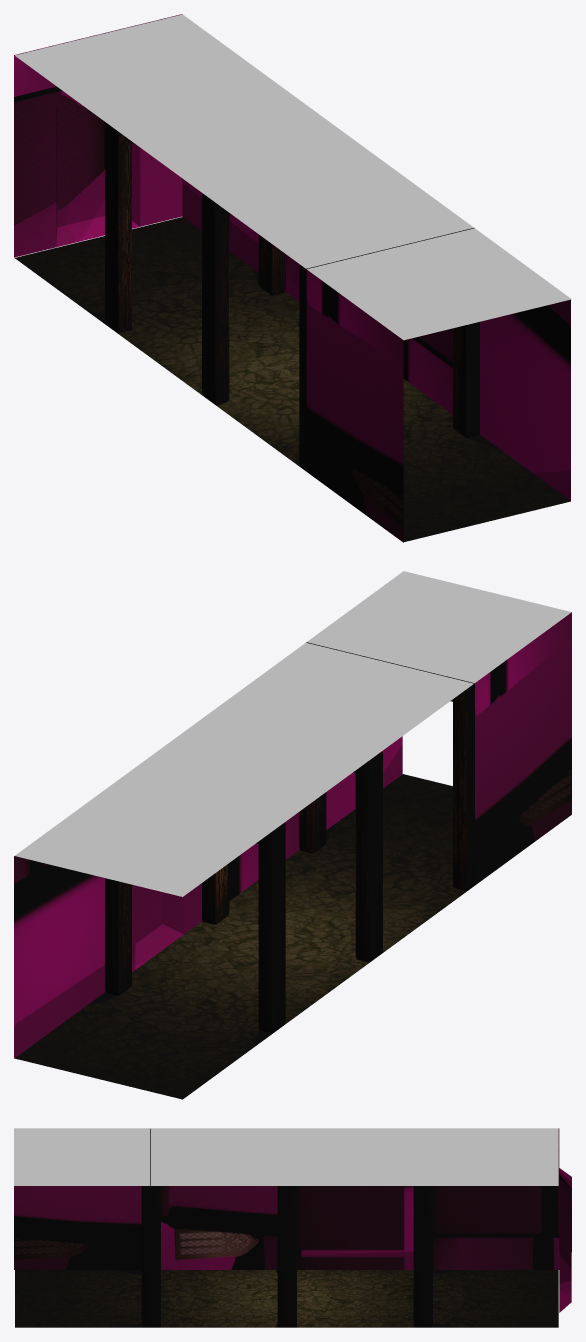
Rendered from Corridor01.fbx.
3 views of the same model, one above another, from view 1: azimuth 30°, elevation 25°; view 2: azimuth 150°, elevation 25°; view 3: azimuth 270°, elevation 25° (orthographic). The views are drawn at different scales.
Parts seen in each view (by area): view 1: Castle_Ceiling01, Castle_Wall01, Castle_Floor01, Castle_Beam01; view 2: Castle_Ceiling01, Castle_Floor01, Castle_Wall01, Castle_Beam01; view 3: Castle_Wall01, Castle_Ceiling01, Castle_Floor01, Castle_Beam01.
Part boxes in pixels (box(x1,y1,x2,y2)): Castle_Ceiling01: box(15, 14, 571, 340); Castle_Wall01: box(14, 14, 570, 542); Castle_Floor01: box(15, 217, 570, 541); Castle_Beam01: box(105, 122, 479, 470); Castle_Ceiling01: box(15, 571, 571, 896); Castle_Floor01: box(15, 774, 474, 1099); Castle_Wall01: box(14, 612, 571, 1058); Castle_Beam01: box(105, 642, 474, 1032); Castle_Wall01: box(14, 1128, 571, 1312); Castle_Ceiling01: box(14, 1128, 558, 1185); Castle_Floor01: box(15, 1270, 558, 1327); Castle_Beam01: box(141, 1128, 432, 1327).
Bounding box in the file's own units: 219 × 230 × 821.
